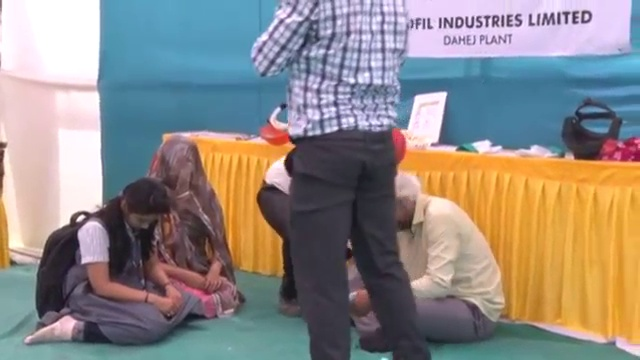helmet_off: (152, 140, 208, 202), (112, 181, 171, 235)
person: (249, 1, 438, 360), (26, 176, 197, 350), (346, 168, 504, 341), (141, 135, 240, 313), (256, 149, 311, 323)
